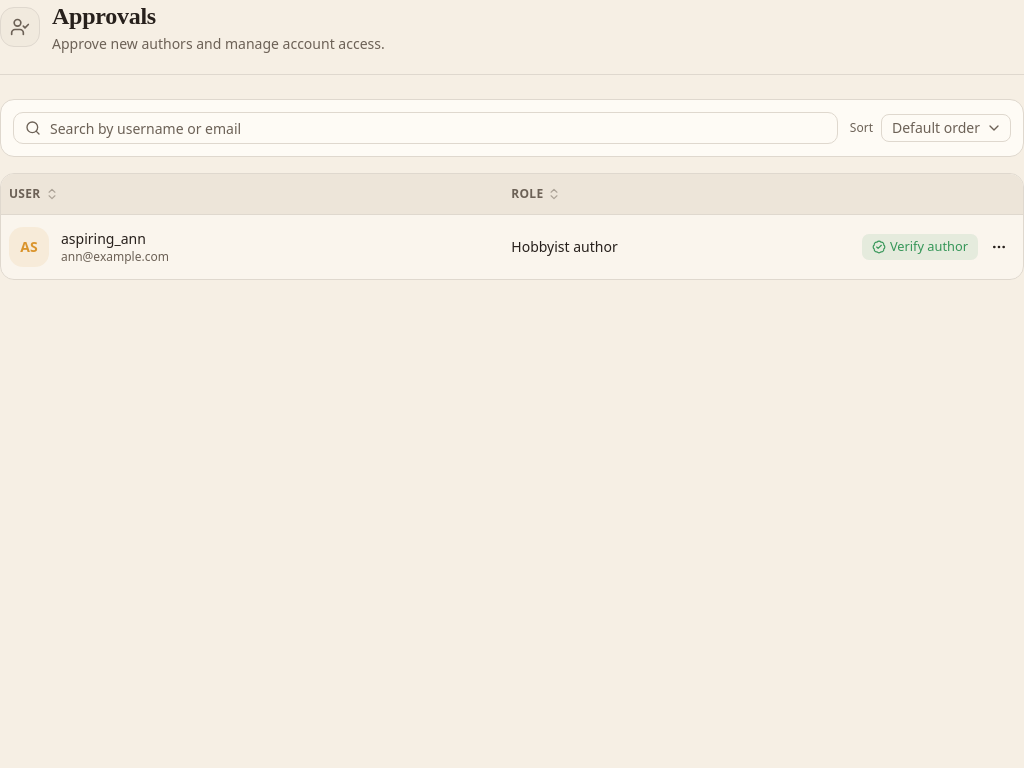
UsersQueuePage › shows the Verify control and reveals onboarding answers via View details
The width and height of the screenshot is (1024, 768).
expect the button "Verify author" is shown: met, box [861,232,979,260]
# The application answers are one click away, behind View details.
Click the button named "actions" at (999, 246), box [983,230,1015,262]
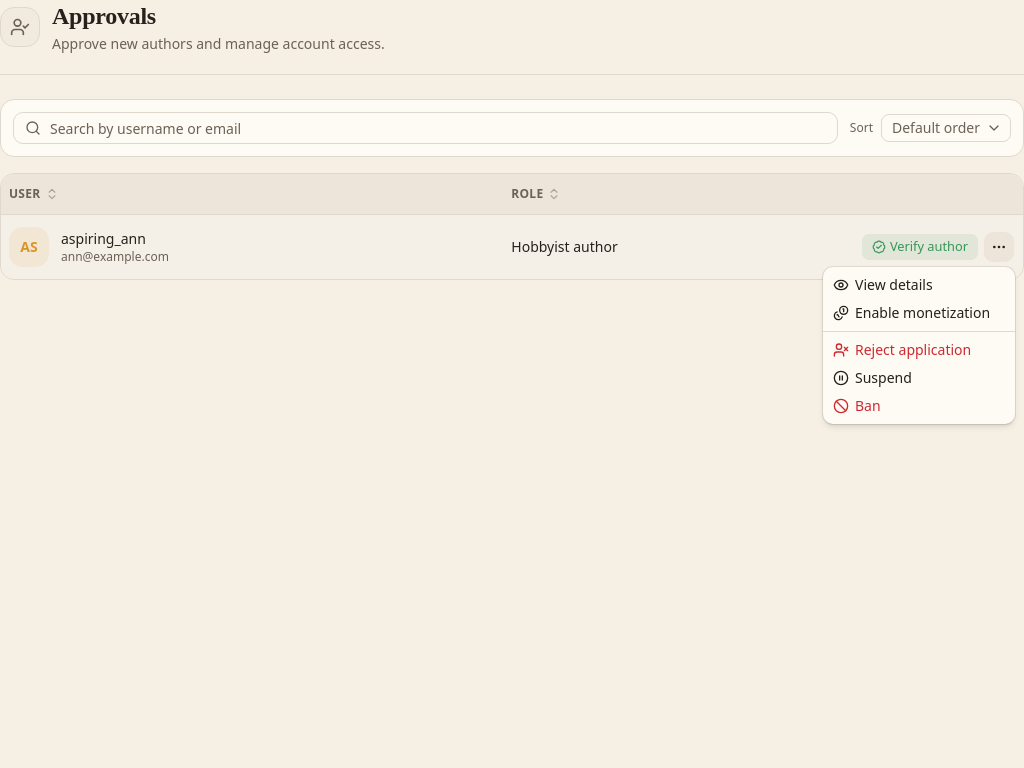
Click the menu item "View details" at (883, 284), box [833,275,933,294]
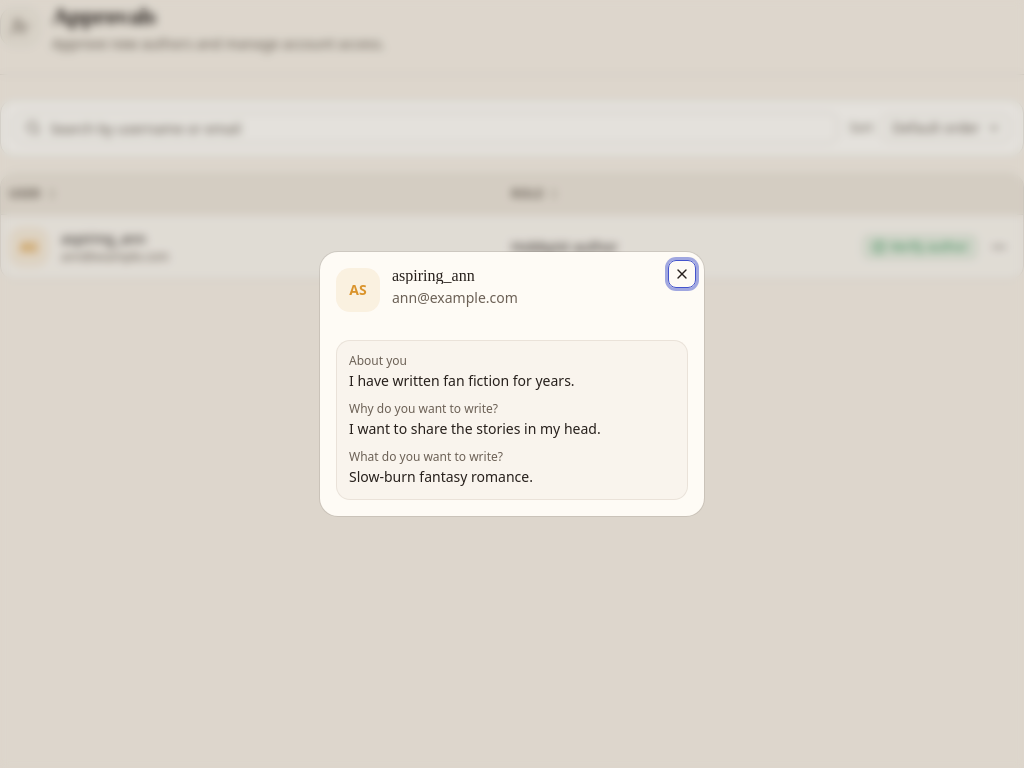
expect the text "I have written fan fiction for years." is shown: met, box [349,371,575,390]
expect the text "I want to share the stories in my head." is shown: met, box [349,419,601,438]
expect the text "Slow-burn fantasy romance." is shown: met, box [349,467,533,486]
